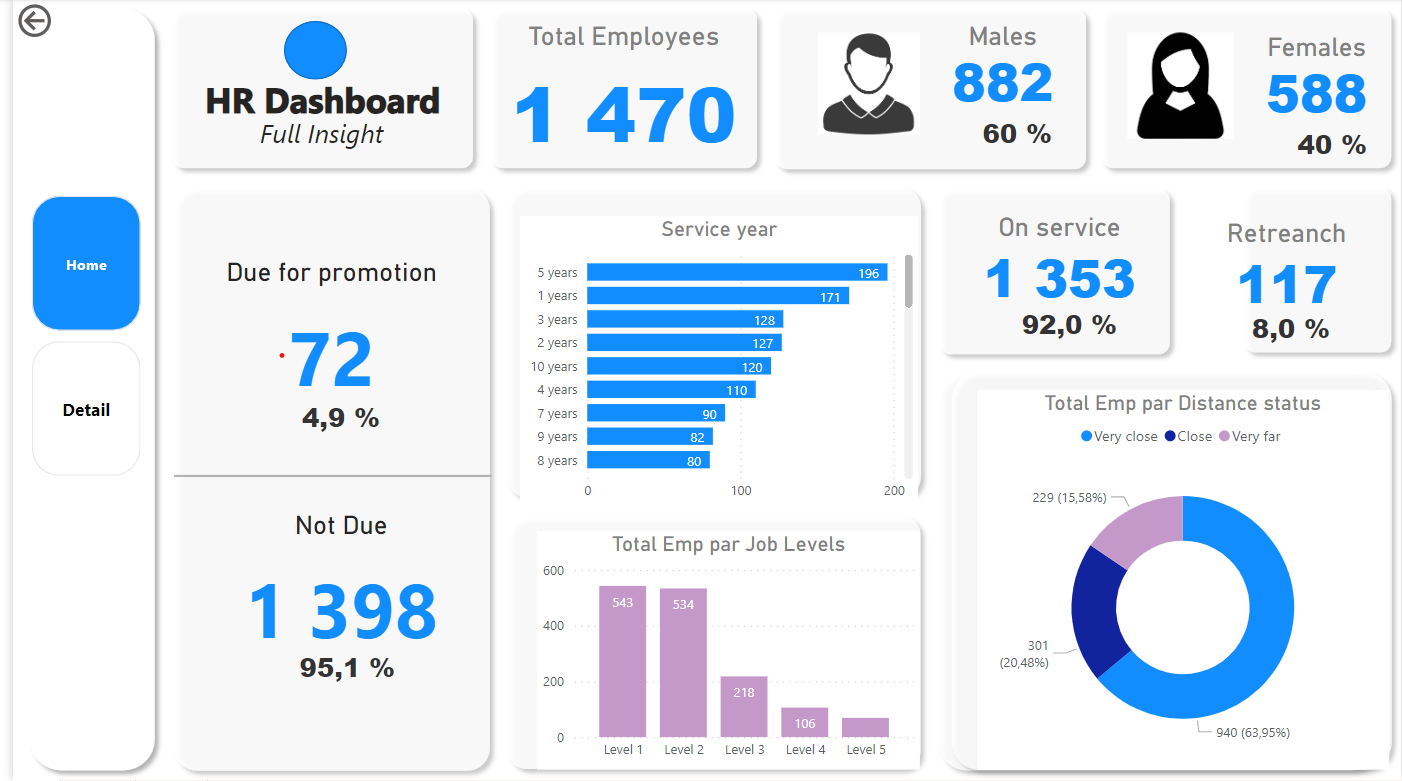

The page's visual inventory and layout, read from the dashboard file:
{"tool":"powerbi","page":{"name":"Home","canvas":[1280,720],"ordinal":0},"visuals":[{"type":"shape","box":[6.1,0,133.3,720.2],"z":0},{"type":"shape","box":[138.1,0,294.8,164.9],"z":1000},{"type":"shape","box":[432.5,0,262.5,165],"z":2000},{"type":"shape","box":[694,0,304,166],"z":3000},{"type":"shape","box":[995,0,285,165],"z":4000},{"type":"shape","box":[139.8,165.1,308.4,555.4],"z":5000},{"type":"shape","box":[445.8,163.9,400,304.8],"z":6000},{"type":"shape","box":[448.2,468.7,397.6,250.6],"z":7000},{"type":"shape","box":[845.6,165.5,230.1,170.7],"z":8000},{"type":"shape","box":[1095.2,165,184.4,169.6],"z":9000},{"type":"shape","box":[844.6,334.9,424.1,385.5],"z":10000},{"type":"textbox","box":[152.5,65.6,267,72.2],"z":11000},{"type":"textbox","box":[172.9,101.2,222,54],"z":12000},{"type":"shape","box":[250,20,58,54],"z":13000},{"type":"card","title":"Total Employees","fields":{"Values":["All Measures.Total Emp"]},"box":[448,20,230,136],"z":14000},{"type":"card","title":"Males","fields":{"Values":["All Measures.Male"]},"box":[846,20,132,82],"z":15000},{"type":"card","title":"Males","fields":{"Values":["All Measures.% Male"]},"box":[888,86,76,78],"z":16000},{"type":"card","title":"Females","fields":{"Values":["All Measures.Female"]},"box":[1136,30,132,82],"z":17000},{"type":"card","title":"Males","fields":{"Values":["All Measures.% Female"]},"box":[1178,96,76,78],"z":18000},{"type":"image","box":[732,26,114,104],"z":19000},{"type":"image","box":[1012,26,128,108],"z":20000},{"type":"card","title":"Due for promotion","fields":{"Values":["All Measures.Due for promotion"]},"box":[187.1,237.6,213.3,149.4],"z":21000},{"type":"card","title":"Males","fields":{"Values":["All Measures.% Due for promotion"]},"box":[257,356.8,90.4,59],"z":22000},{"type":"card","title":"Not Due","fields":{"Values":["All Measures.Not Due"]},"box":[195.7,470.9,214.3,148.6],"z":23000},{"type":"card","title":"Males","fields":{"Values":["All Measures.% Not due"]},"box":[257.8,585.5,100,63.9],"z":24000},{"type":"shape","box":[148.6,427.1,292.9,25.7],"z":25000},{"type":"barChart","title":"Service year","fields":{"Category":["HR Analytics Data.Service year"],"Y":["All Measures.Total Emp"]},"box":[467.3,199.7,367.4,271.6],"z":26000},{"type":"actionButton","box":[0,0,100,40],"z":27000},{"type":"columnChart","fields":{"Category":["HR Analytics Data.Job Levels"],"Y":["All Measures.Total Emp"]},"box":[483.3,490,353.3,220],"z":28000},{"type":"shape","box":[856.4,334.2,423.6,385.1],"z":29000},{"type":"card","title":"On service","fields":{"Values":["All Measures.On service"]},"box":[879.2,196.5,170.7,90.5],"z":30000},{"type":"card","title":"Males","fields":{"Values":["All Measures.% on service"]},"box":[908.6,265.6,129.8,69.9],"z":31000},{"type":"card","title":"Retrenched","fields":{"Values":["All Measures.Will be retreanched"]},"box":[1088.8,201.9,178.8,90.3],"z":32000},{"type":"card","title":"Males","fields":{"Values":["All Measures.% will be retreanched"]},"box":[1130,268.9,95.7,69.8],"z":33000},{"type":"donutChart","fields":{"Category":["HR Analytics Data.Distance status"],"Y":["All Measures.Total Emp"]},"box":[888.5,360,379.5,350.2],"z":34000},{"type":"pageNavigator","box":[17.2,181.8,100,259.6],"z":35000}]}

Visuals, with their boxes in screenshot pixels (x1, y1, x2, y2), scaled from the page's 1280x720 canvas onto the 1402x781 screenshot:
shape: <bbox>7, 0, 153, 780</bbox>
shape: <bbox>151, 0, 474, 179</bbox>
shape: <bbox>474, 0, 761, 179</bbox>
shape: <bbox>760, 0, 1093, 180</bbox>
shape: <bbox>1090, 0, 1401, 179</bbox>
shape: <bbox>153, 179, 491, 780</bbox>
shape: <bbox>488, 178, 926, 508</bbox>
shape: <bbox>491, 508, 926, 780</bbox>
shape: <bbox>926, 180, 1178, 365</bbox>
shape: <bbox>1200, 179, 1401, 363</bbox>
shape: <bbox>925, 363, 1390, 780</bbox>
textbox: <bbox>167, 71, 459, 149</bbox>
textbox: <bbox>189, 110, 433, 168</bbox>
shape: <bbox>274, 22, 337, 80</bbox>
"Total Employees" card: <bbox>491, 22, 743, 169</bbox>
"Males" card: <bbox>927, 22, 1071, 111</bbox>
"Males" card: <bbox>973, 93, 1056, 178</bbox>
"Females" card: <bbox>1244, 33, 1389, 121</bbox>
"Males" card: <bbox>1290, 104, 1374, 189</bbox>
image: <bbox>802, 28, 927, 141</bbox>
image: <bbox>1108, 28, 1249, 145</bbox>
"Due for promotion" card: <bbox>205, 258, 439, 420</bbox>
"Males" card: <bbox>281, 387, 381, 451</bbox>
"Not Due" card: <bbox>214, 511, 449, 672</bbox>
"Males" card: <bbox>282, 635, 392, 704</bbox>
shape: <bbox>163, 463, 484, 491</bbox>
"Service year" barChart: <bbox>512, 217, 914, 511</bbox>
actionButton: <bbox>0, 0, 110, 43</bbox>
columnChart - HR Analytics Data.Job Levels x All Measures.Total Emp: <bbox>529, 532, 916, 770</bbox>
shape: <bbox>938, 363, 1401, 780</bbox>
"On service" card: <bbox>963, 213, 1150, 311</bbox>
"Males" card: <bbox>995, 288, 1137, 364</bbox>
"Retrenched" card: <bbox>1193, 219, 1388, 317</bbox>
"Males" card: <bbox>1238, 292, 1343, 367</bbox>
donutChart - HR Analytics Data.Distance status x All Measures.Total Emp: <bbox>973, 390, 1389, 770</bbox>
pageNavigator: <bbox>19, 197, 128, 479</bbox>
